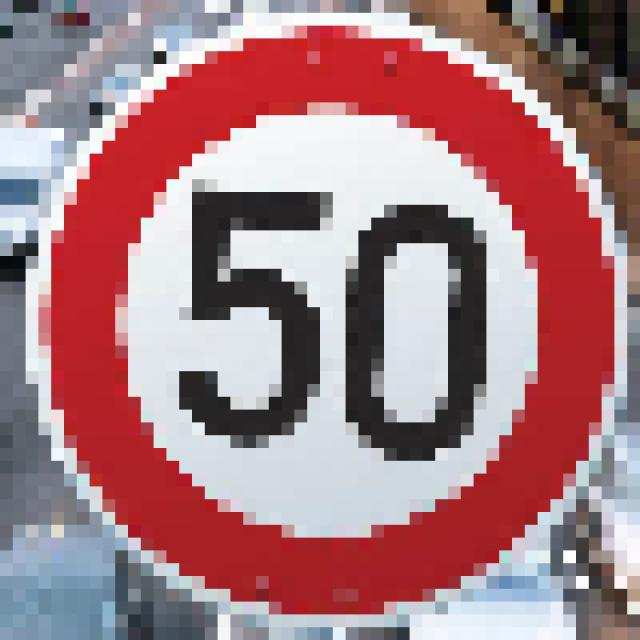Limite-50: (30, 16, 624, 624)
